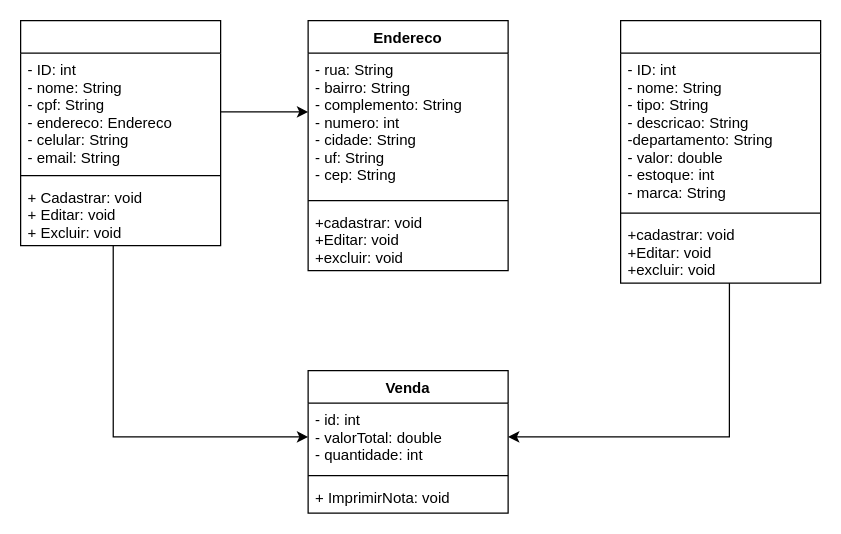
The diagram is 841 pixels wide and 534 high, and some of its shapes have lost their labels. Each missing label, with the box of its shape:
Cliente: (19, 19, 221, 246)
Produto: (619, 19, 821, 283)
